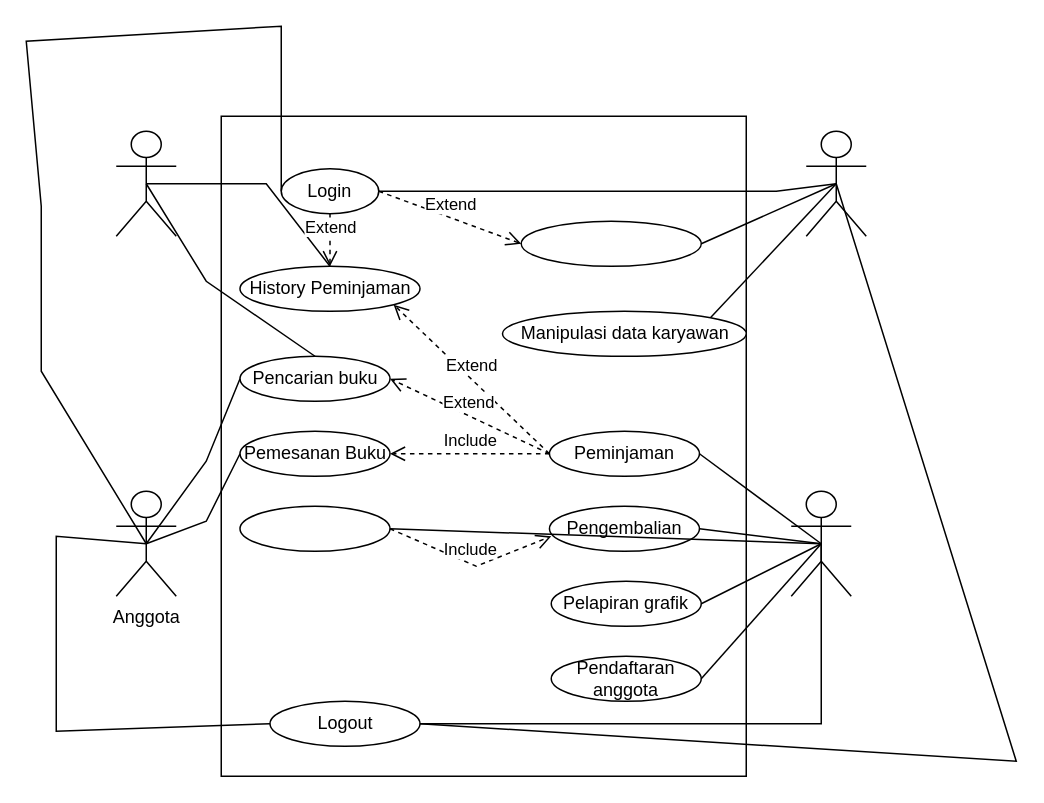
This 1044x803 diagram has some shape labels left out. The shapes that lost their labels are listed below. From the top down, each one's centre as x and y in pixels, then its label:
At [145,183]: "Guest".
At [835,183]: "Admin".
At [610,243]: "Manipulasi data buku".
At [314,528]: "Pelaporan".
At [820,543]: "Perpustakawan".
